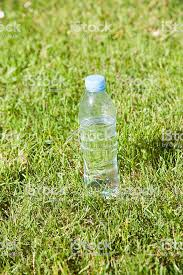plastic_bottle: (75, 72, 126, 201)
